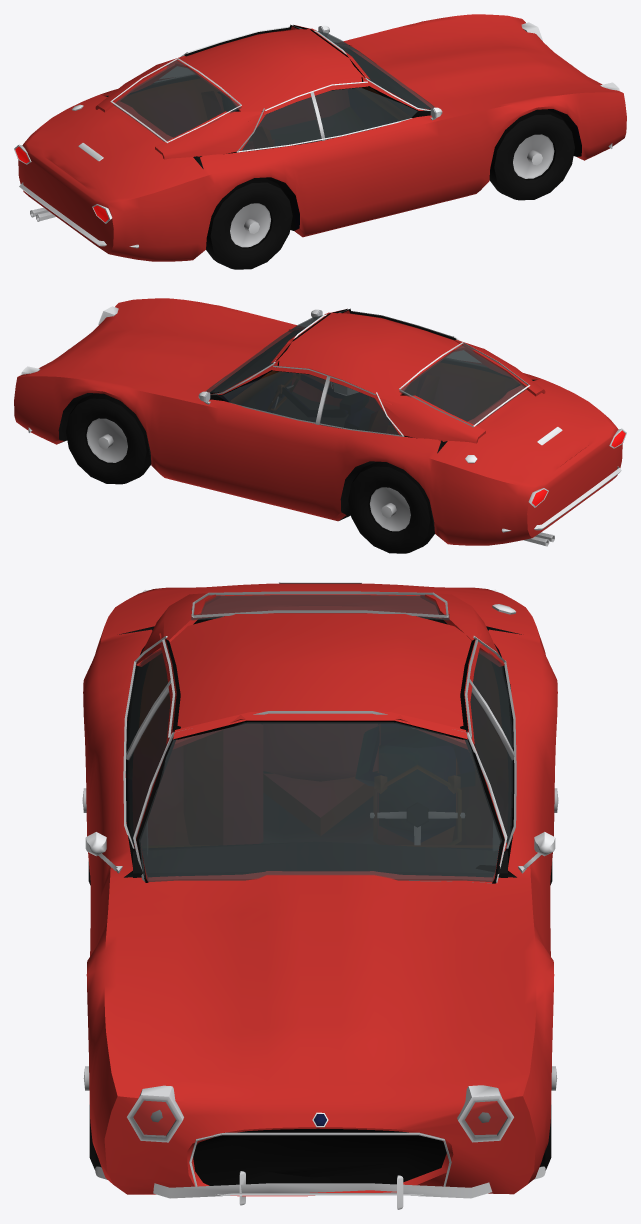
File: ag_aurelia_race.glb
3 renders of one model, top to bottom at view 1: azimuth 30°, elevation 25°; view 2: azimuth 150°, elevation 25°; view 3: azimuth 270°, elevation 25°, orthographic. The views are drawn at different scales.
Visible parts, largest first — view 1: body, glass, tyre_RR, tyre_FR, window_R, interior, rim_FR, rim_RR; view 2: body, glass, tyre_RL, tyre_FL, window_L, interior, driver, rim_FL, rim_RL; view 3: body, glass, interior, driver, window_L, window_R, steering_wheel.
Part boxes in pixels (<box>): body: <box>14,14,626,261</box>; glass: <box>113,27,619,150</box>; tyre_RR: <box>206,177,292,269</box>; tyre_FR: <box>489,109,574,200</box>; window_R: <box>315,87,417,139</box>; interior: <box>169,45,430,152</box>; rim_FR: <box>513,134,554,178</box>; rim_RR: <box>230,203,270,247</box>; body: <box>14,298,626,545</box>; glass: <box>21,311,527,435</box>; tyre_RL: <box>348,461,434,553</box>; tyre_FL: <box>65,393,151,484</box>; window_L: <box>223,371,325,422</box>; interior: <box>210,329,471,436</box>; driver: <box>278,373,374,430</box>; rim_FL: <box>86,418,127,462</box>; rim_RL: <box>370,487,410,531</box>; body: <box>83,582,557,1209</box>; glass: <box>128,595,512,1140</box>; interior: <box>133,724,507,877</box>; driver: <box>355,724,474,842</box>; window_L: <box>470,692,512,850</box>; window_R: <box>128,692,170,850</box>; steering_wheel: <box>370,765,464,844</box>.
Bounding box in the file's own units: 4.6 × 1.35 × 1.81.
